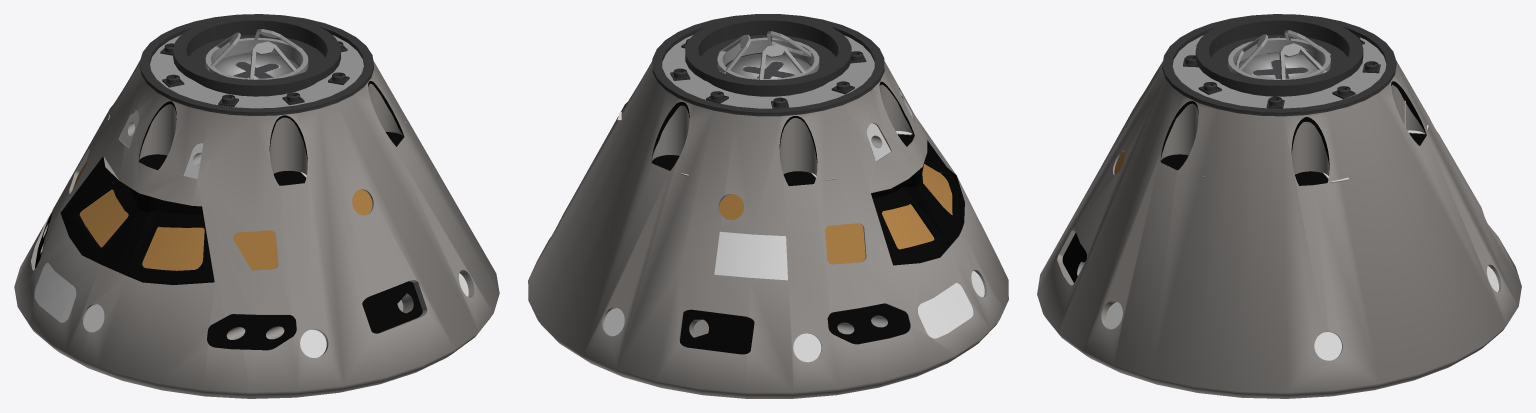
3 renders of one model, left to right at view 1: azimuth 30°, elevation 25°; view 2: azimuth 150°, elevation 25°; view 3: azimuth 270°, elevation 25°, orthographic.
Visible parts, largest first — view 1: Orion (unfolded); view 2: Orion (unfolded); view 3: Orion (unfolded).
Boxes of the visible parts, box(x1,y1,x2,y2) form: Orion (unfolded): box(14, 14, 499, 398); Orion (unfolded): box(528, 14, 1008, 398); Orion (unfolded): box(1037, 14, 1521, 398).
Bounding box in the file's own units: 344 × 229 × 345.
